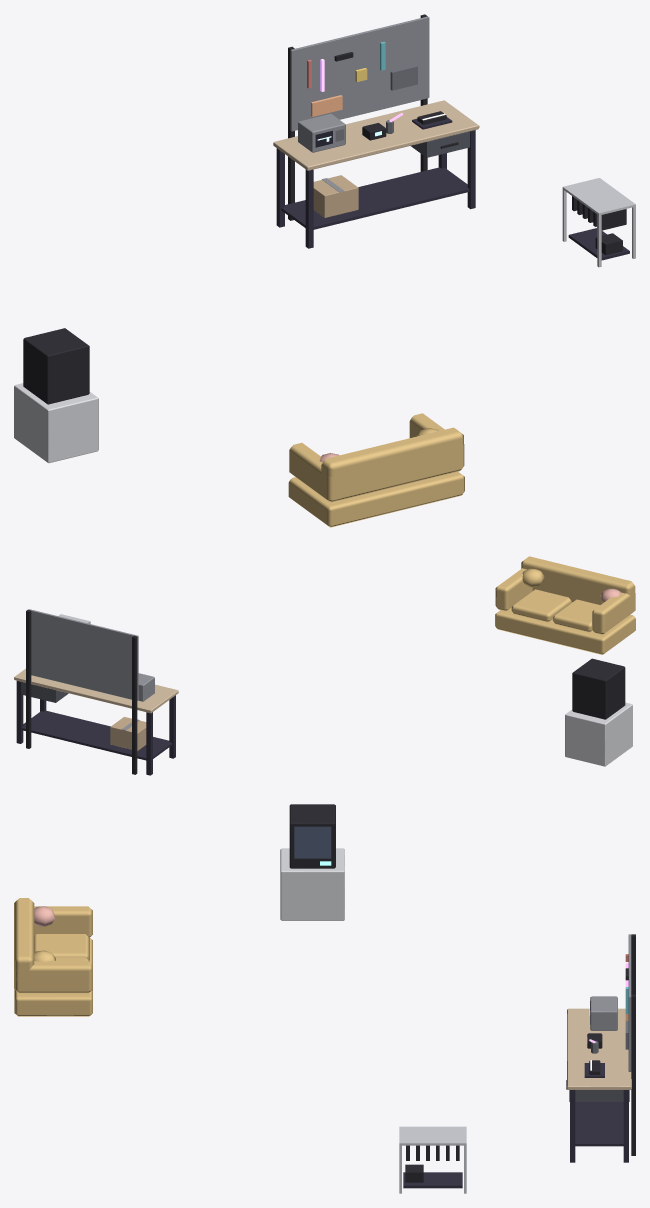
Rendered from einrichtung_selins_labor_buehne.glb.
The picture shows the model from 3 angles, top to bottom: view 1: azimuth 30°, elevation 25°; view 2: azimuth 150°, elevation 25°; view 3: azimuth 270°, elevation 25°; orthographic projection. The views are drawn at different scales.
Parts seen in each view (by area): view 1: einrichtung_selins_labor_buehne; view 2: einrichtung_selins_labor_buehne; view 3: einrichtung_selins_labor_buehne.
Part boxes in pixels (x1,y1,x2,y2): einrichtung_selins_labor_buehne: [14, 14, 635, 527]; einrichtung_selins_labor_buehne: [14, 556, 635, 775]; einrichtung_selins_labor_buehne: [14, 804, 635, 1193].
Bounding box in the file's own units: 7.57 × 1.9 × 6.73.
